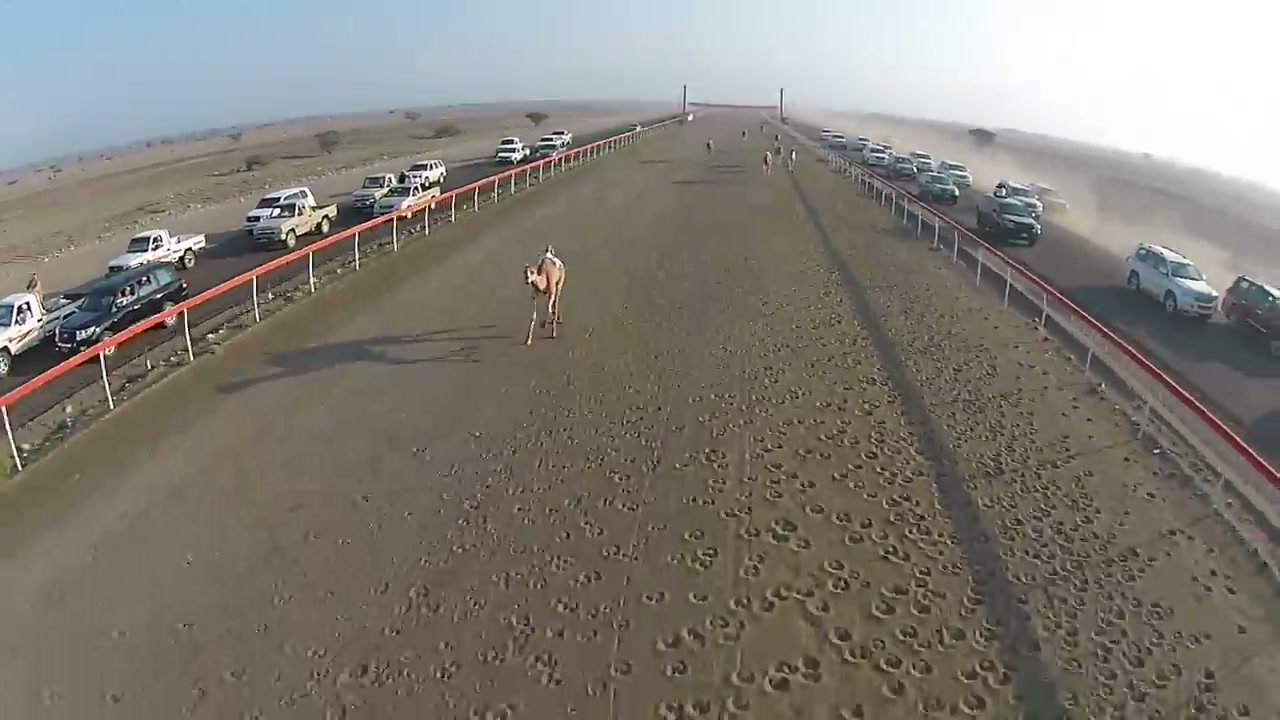animal_footprint: (651, 264, 1208, 708), (202, 338, 640, 702)
